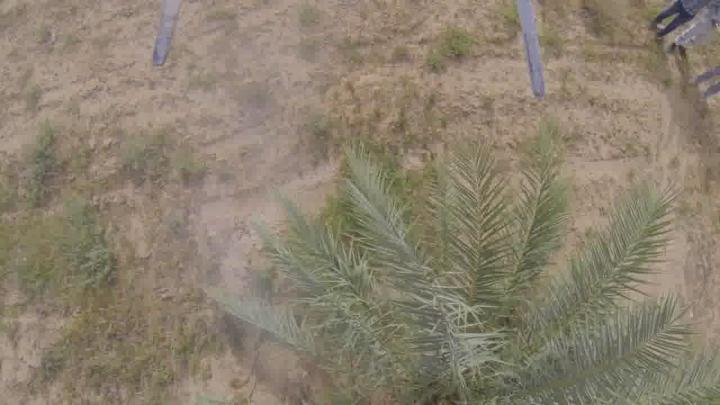Date-Palm-Crown: (294, 198, 622, 404)
